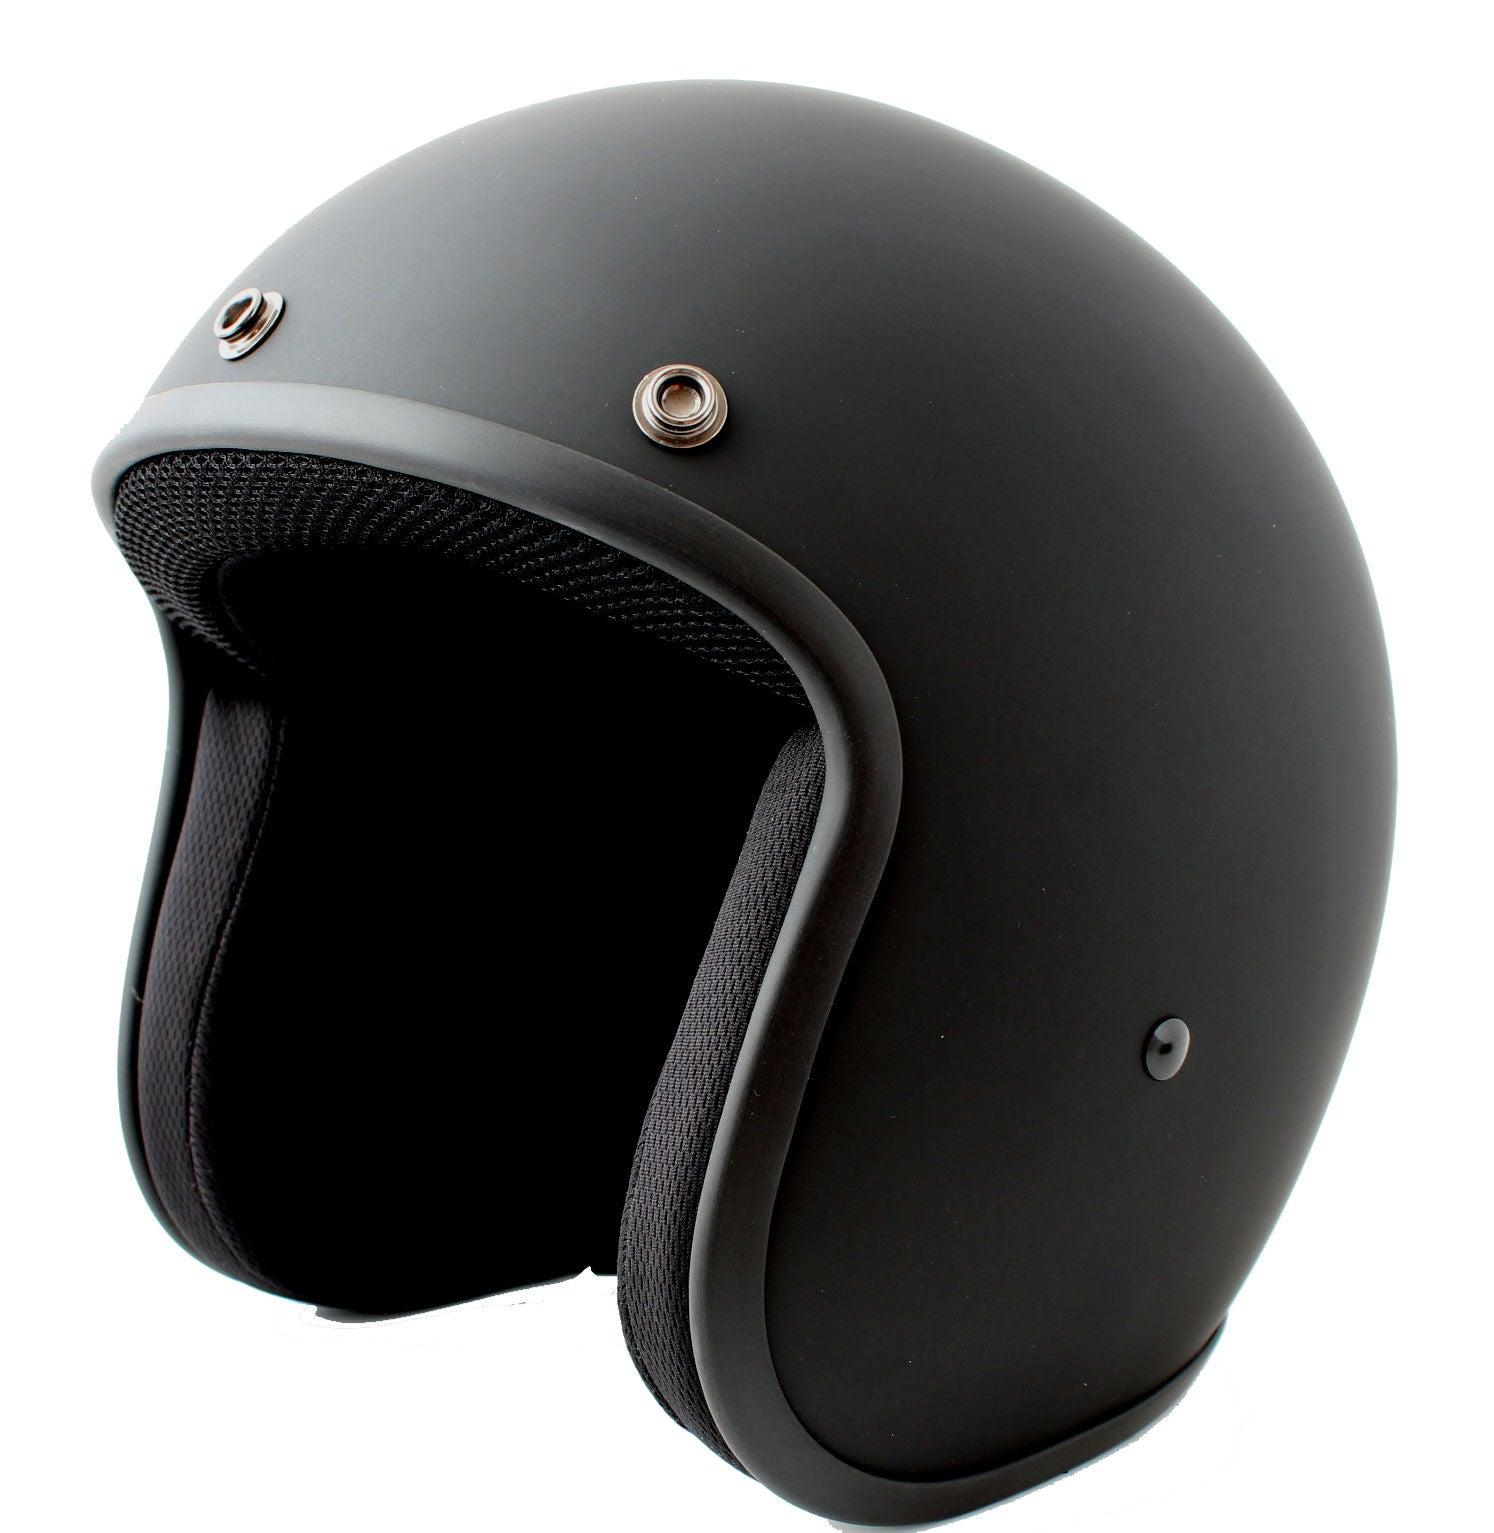helmet: (96, 83, 1395, 1526)
